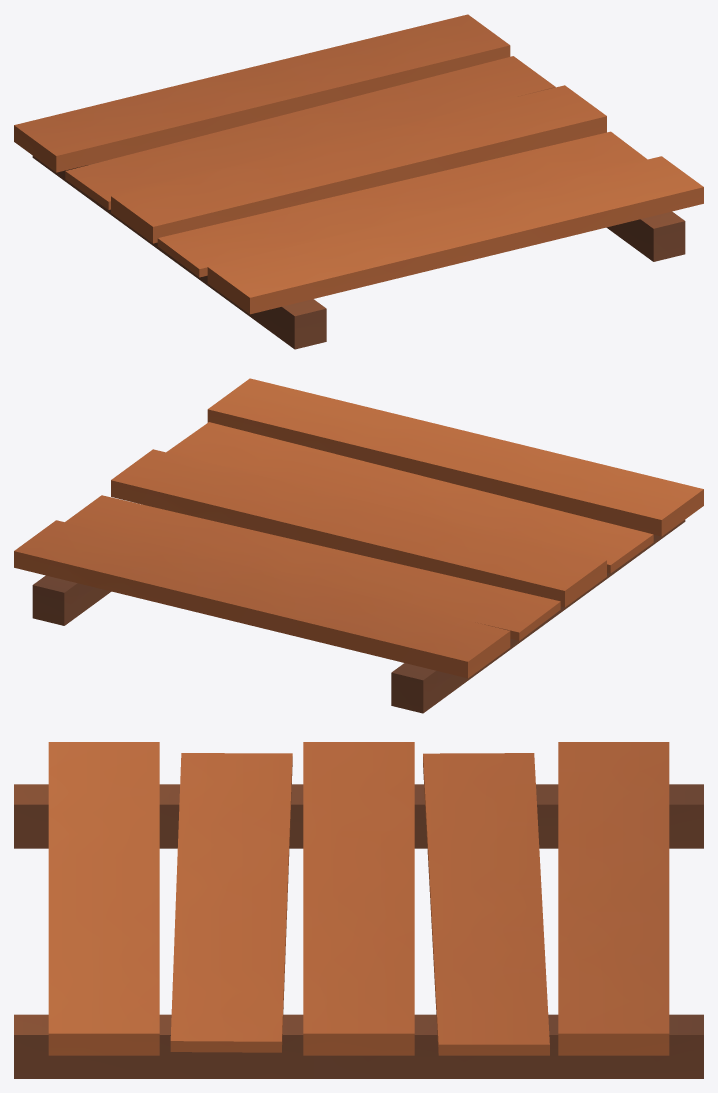
The model's file is platform.glb.
3 views of the same model, one above another, from view 1: azimuth 30°, elevation 25°; view 2: azimuth 150°, elevation 25°; view 3: azimuth 270°, elevation 25° (orthographic). The views are drawn at different scales.
Visible parts, largest first — view 1: platform; view 2: platform; view 3: platform.
Boxes of the visible parts, <box> form: platform: <box>14,14,703,349</box>; platform: <box>14,378,703,713</box>; platform: <box>14,742,703,1078</box>.
Size of the model in its own units: 1 by 0.105 by 1.
Materials: 1 (1 with a texture image).
